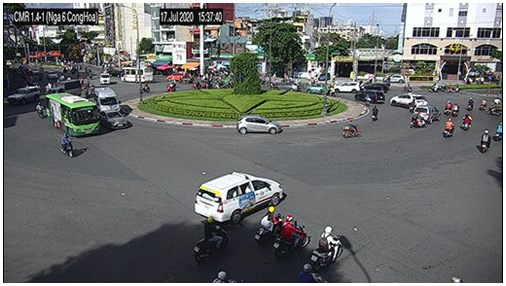xe_buyt: (121, 67, 153, 82)
xe_hoi: (194, 171, 284, 220), (236, 114, 281, 136), (6, 86, 40, 107), (389, 93, 425, 109), (99, 109, 127, 129), (412, 105, 441, 123), (356, 90, 384, 102), (361, 82, 388, 94), (275, 81, 300, 92), (304, 83, 328, 94), (166, 71, 188, 82), (334, 82, 358, 92)
xe_khach: (93, 87, 119, 113), (99, 72, 111, 85)
xe_may: (272, 215, 310, 260), (193, 217, 230, 261), (311, 225, 343, 272), (256, 207, 283, 247), (297, 265, 326, 283), (60, 131, 75, 159), (343, 117, 363, 138), (213, 270, 241, 284), (410, 111, 426, 127), (479, 128, 489, 153), (494, 120, 504, 142), (461, 114, 472, 132), (443, 118, 452, 138), (487, 103, 502, 115), (479, 96, 488, 111), (443, 101, 453, 114), (371, 105, 379, 121), (427, 83, 440, 92), (166, 81, 177, 90), (452, 103, 460, 115), (142, 82, 149, 93), (192, 80, 201, 88), (468, 96, 473, 110), (202, 80, 210, 88)
